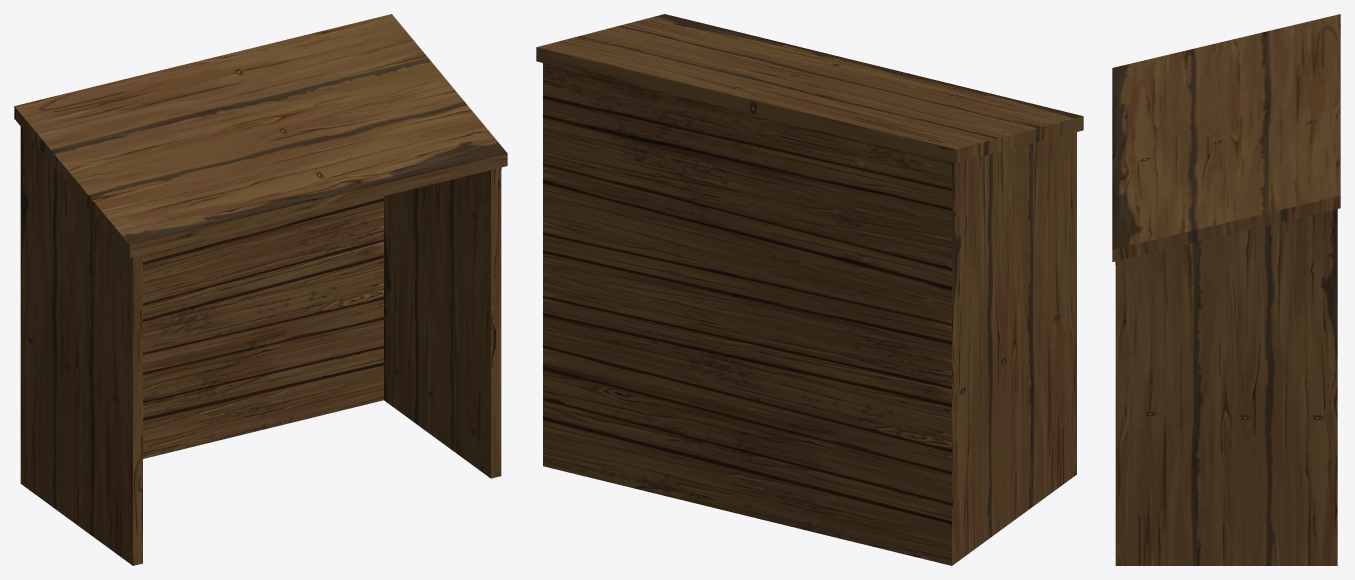
Rendered from fanasty_mod_log_shed.fbx.
3 renders of one model, left to right at view 1: azimuth 30°, elevation 25°; view 2: azimuth 150°, elevation 25°; view 3: azimuth 270°, elevation 25°, orthographic. The views are drawn at different scales.
Visible parts, largest first — view 1: log_shed; view 2: log_shed; view 3: log_shed.
Boxes of the visible parts, <box> form: log_shed: <box>14,14,507,565</box>; log_shed: <box>536,14,1083,565</box>; log_shed: <box>1112,14,1340,565</box>.
Size of the model in its own units: 3.9 by 3.73 by 2.07.
